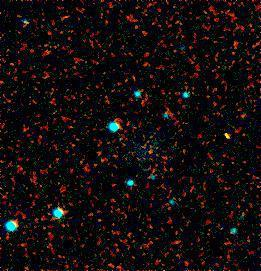star: (212, 122, 242, 152)
